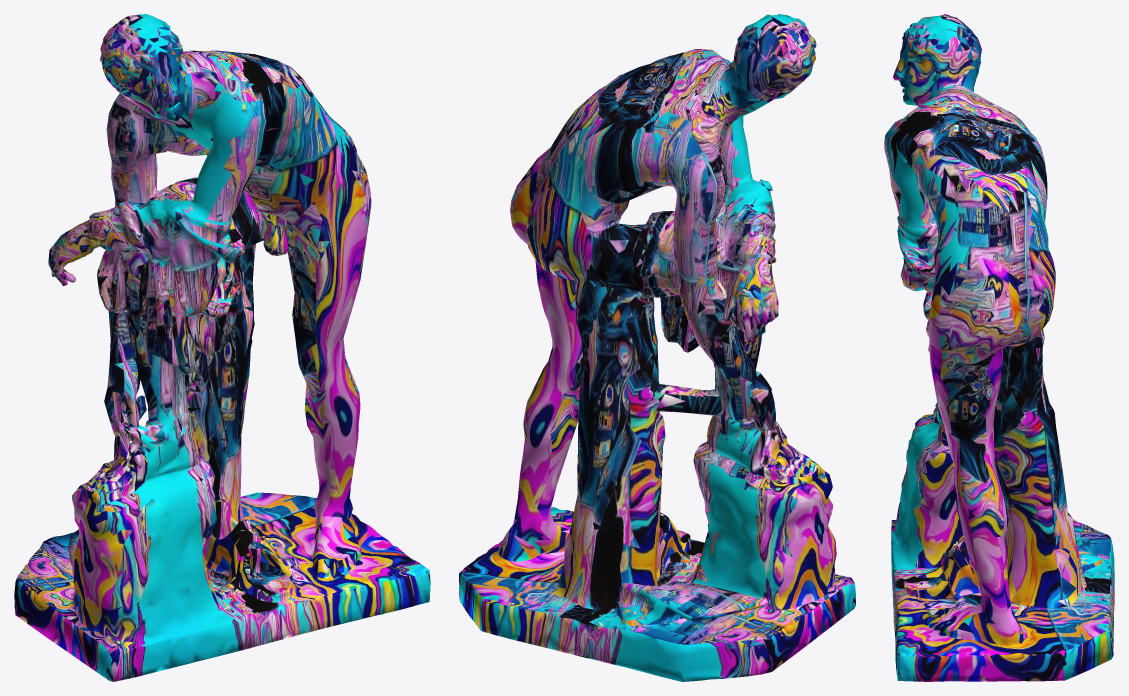
The model's file is tds_hermes-fastening-his-sandals.glb.
The picture shows the model from 3 angles, left to right: view 1: azimuth 30°, elevation 25°; view 2: azimuth 150°, elevation 25°; view 3: azimuth 270°, elevation 25°; orthographic projection. The views are drawn at different scales.
Visible parts, largest first — view 1: A; view 2: A; view 3: A.
Boxes of the visible parts, left/top/right/bottom form: A: left=14, top=14, right=430, bottom=681; A: left=459, top=14, right=855, bottom=681; A: left=884, top=14, right=1114, bottom=681.
Size of the model in its own units: 1.09 by 2 by 0.7574.
1 material, 1 textured.
